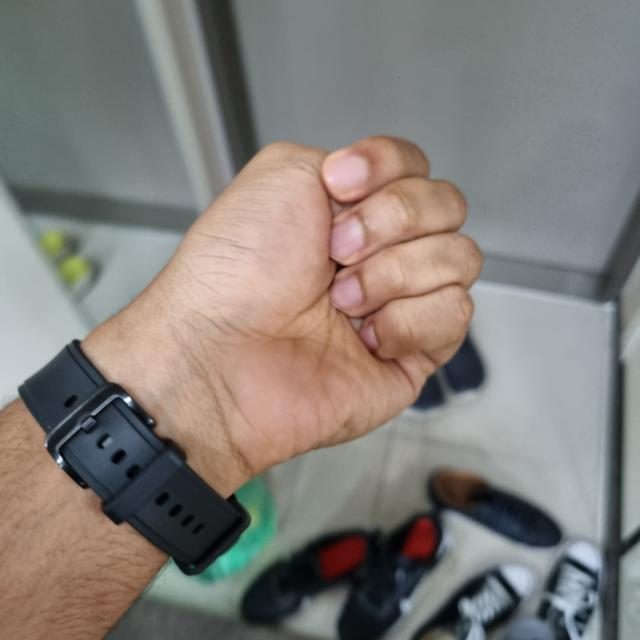Rock: (82, 133, 484, 482)
